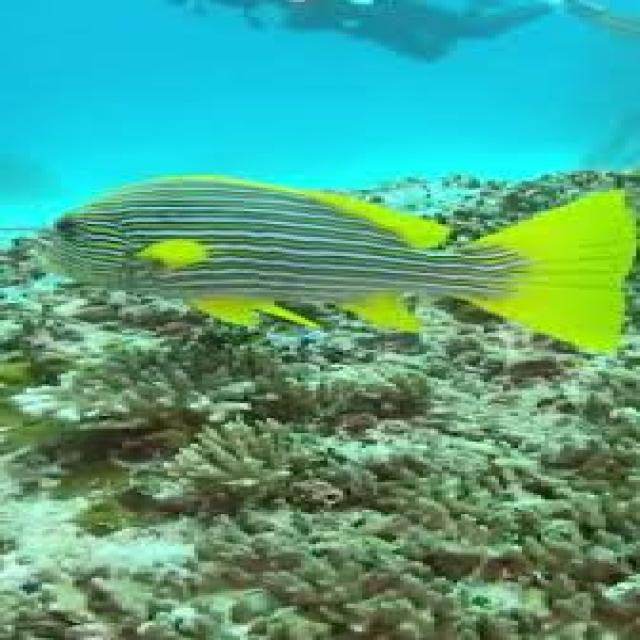RibbonedSweetlips: (19, 171, 636, 356)
